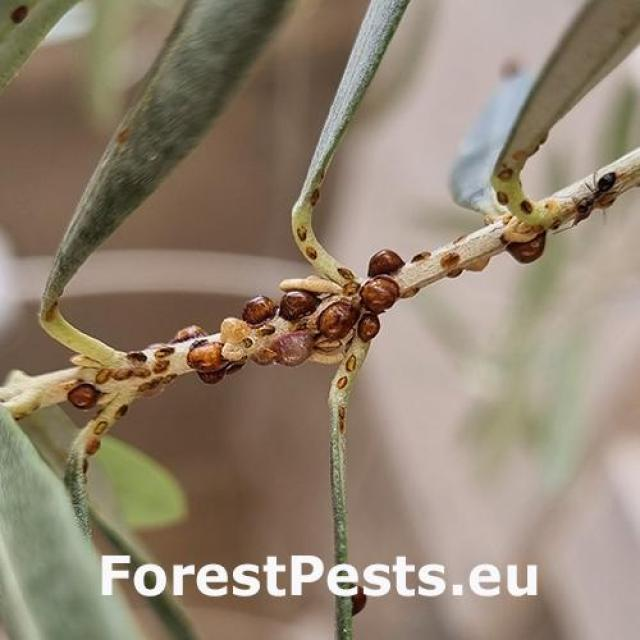Black Scale: (68, 244, 492, 411), (492, 131, 558, 262), (292, 169, 353, 285), (78, 403, 127, 483), (330, 353, 362, 451)
